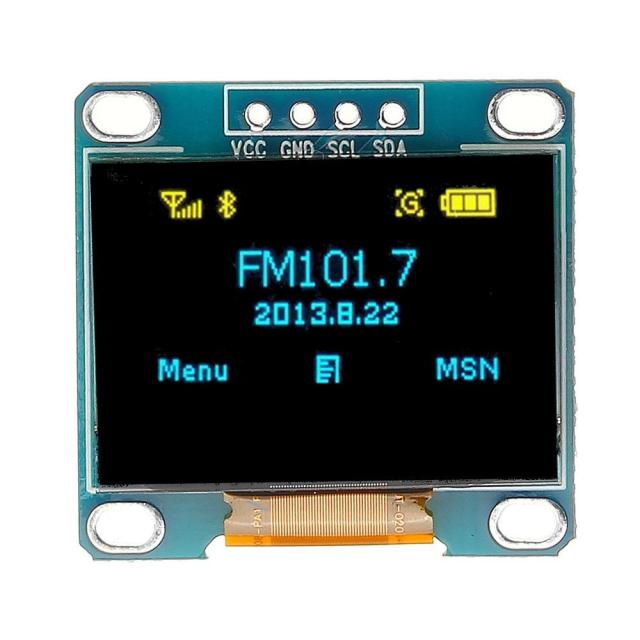Display: (53, 82, 596, 572)
